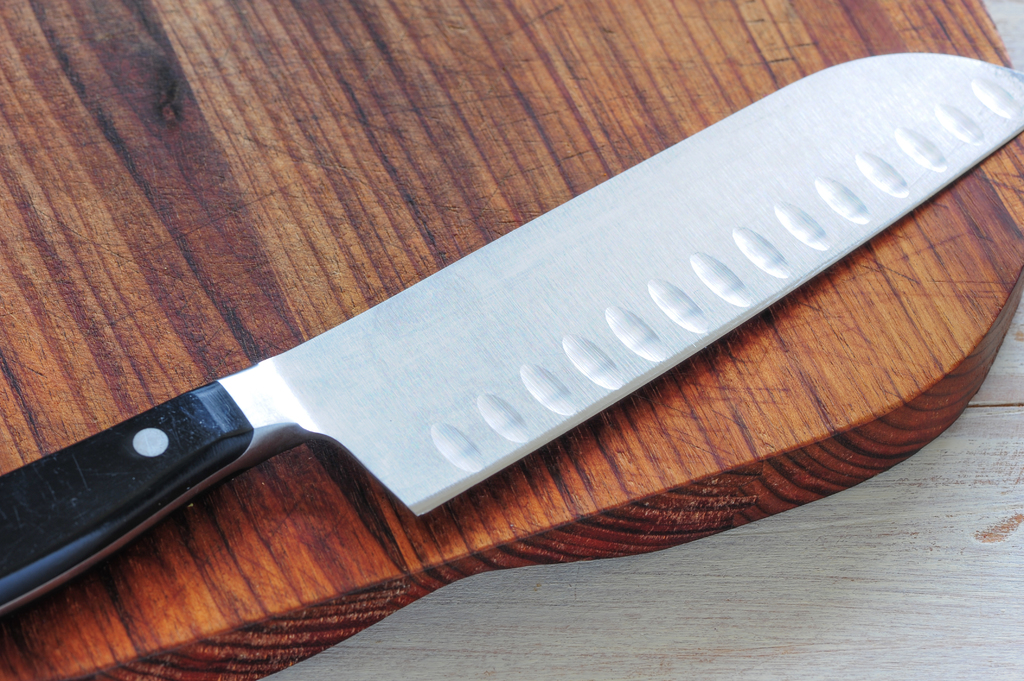knife: (0, 52, 1023, 616)
